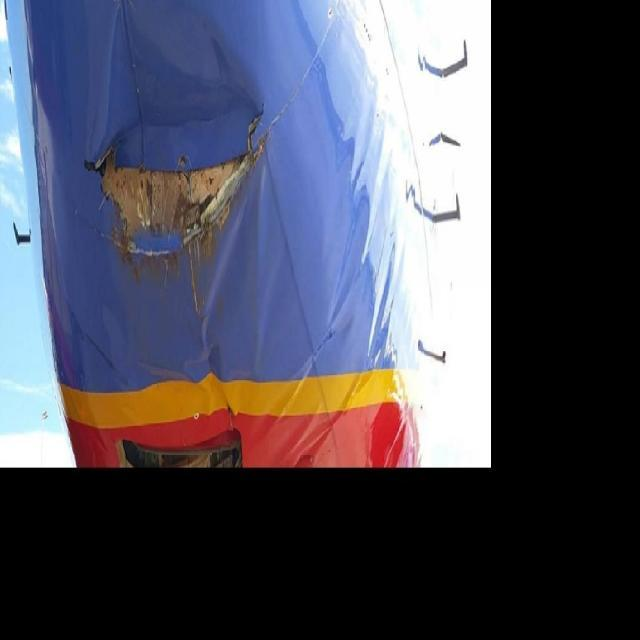crack: (102, 95, 279, 275)
